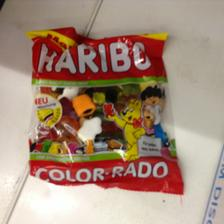Suessigkeit: (24, 28, 184, 196)
